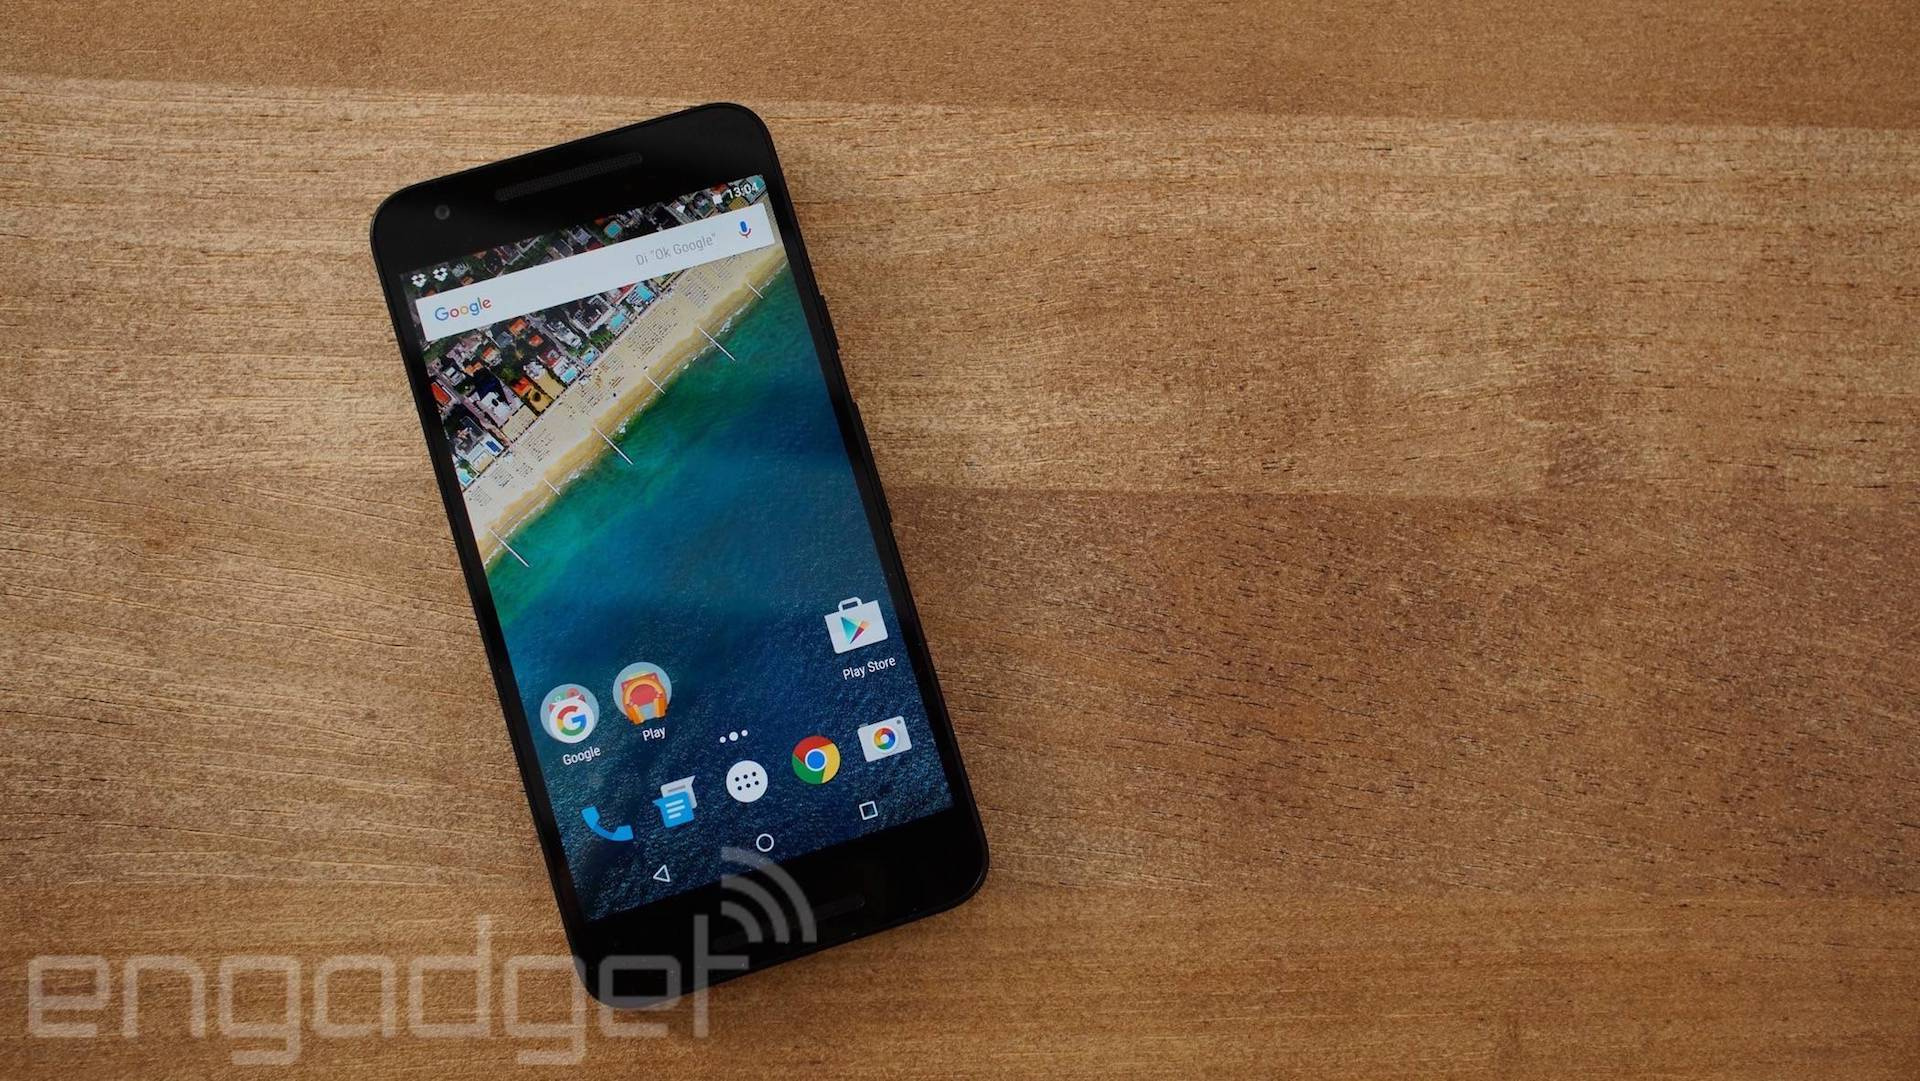smartphone: (368, 100, 993, 1012)
